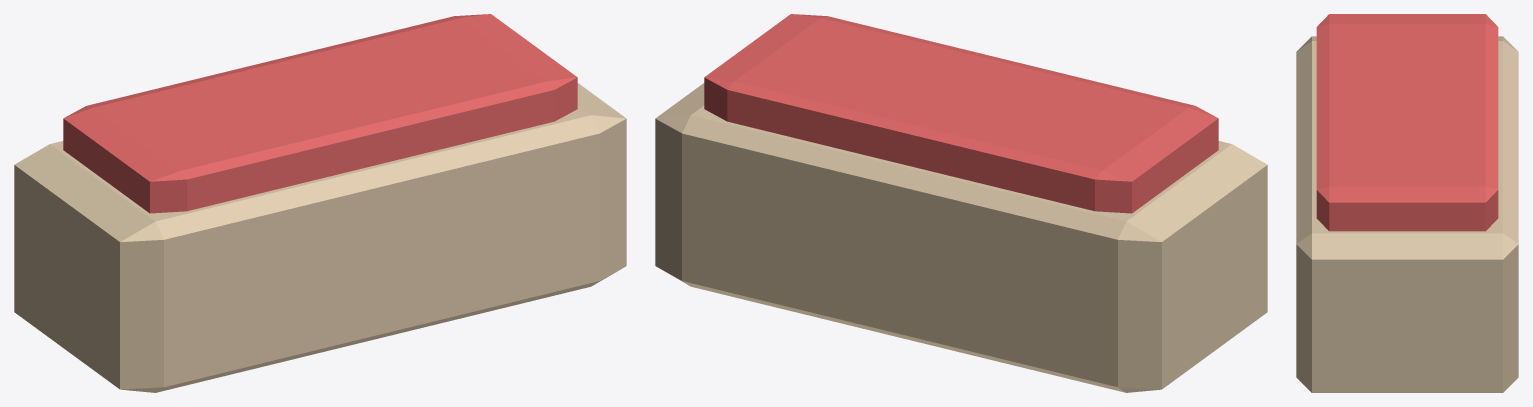
Rendered from b16_hotdog_in_paper_boat.glb.
3 renders of one model, left to right at view 1: azimuth 30°, elevation 25°; view 2: azimuth 150°, elevation 25°; view 3: azimuth 270°, elevation 25°, orthographic. The views are drawn at different scales.
Visible parts, largest first — view 1: b16_hotdog_in_paper_boat; view 2: b16_hotdog_in_paper_boat; view 3: b16_hotdog_in_paper_boat.
Part boxes in pixels (x1=…): b16_hotdog_in_paper_boat: x1=14, y1=14, x2=626, y2=392; b16_hotdog_in_paper_boat: x1=655, y1=14, x2=1267, y2=392; b16_hotdog_in_paper_boat: x1=1296, y1=14, x2=1518, y2=392.
Size of the model in its own units: 0.195 by 0.076 by 0.082.
